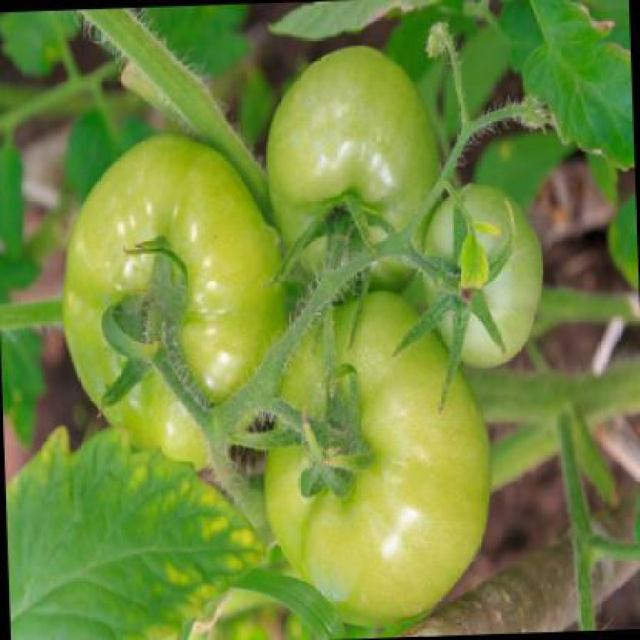unripe tomato: (257, 286, 497, 634), (56, 121, 286, 479), (256, 42, 449, 293), (418, 182, 544, 376)
